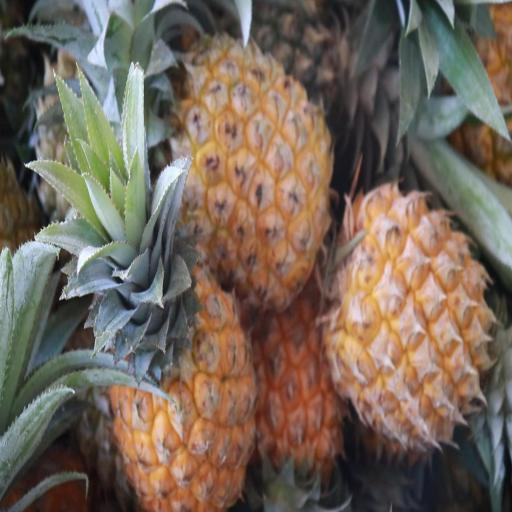Pineapple - v8 v1: (173, 33, 335, 305), (113, 202, 254, 508), (334, 184, 496, 450), (252, 295, 347, 512)
